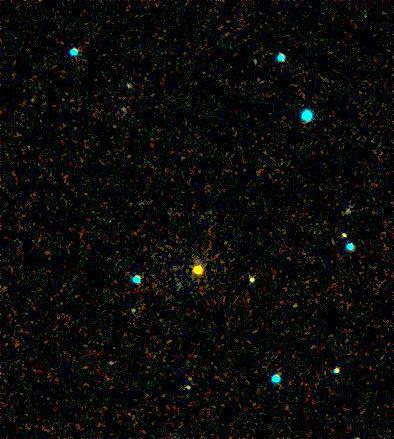star: (182, 256, 212, 286)
